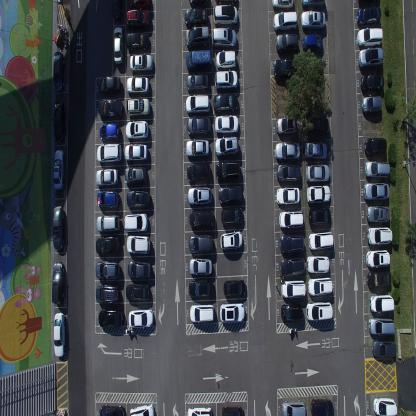car: (52, 204, 66, 252), (357, 46, 384, 70), (185, 48, 212, 72), (301, 8, 326, 31), (279, 232, 305, 254), (219, 302, 245, 324), (272, 57, 298, 79), (211, 26, 237, 48), (366, 225, 393, 246), (54, 311, 66, 358), (362, 180, 390, 200), (214, 134, 238, 157), (186, 25, 210, 48), (213, 4, 238, 26), (188, 209, 214, 230), (307, 275, 333, 296), (357, 26, 383, 47), (125, 234, 151, 255), (306, 301, 333, 321), (273, 10, 297, 32), (52, 260, 64, 304), (53, 148, 65, 192), (53, 100, 65, 144), (216, 159, 240, 181), (214, 68, 238, 90), (356, 5, 381, 26), (213, 92, 238, 113), (185, 94, 210, 115), (128, 308, 153, 329), (278, 208, 304, 228), (279, 256, 305, 276), (372, 395, 398, 415), (364, 160, 390, 180), (96, 142, 122, 162), (95, 235, 121, 255), (218, 184, 242, 205), (187, 186, 211, 207), (306, 183, 330, 204), (360, 72, 384, 93), (186, 161, 210, 182), (98, 99, 122, 120), (125, 119, 149, 140), (188, 279, 213, 299), (189, 303, 214, 323), (275, 141, 300, 161), (366, 249, 391, 269), (123, 212, 148, 232), (95, 261, 120, 281), (95, 284, 120, 304), (280, 280, 306, 299), (308, 231, 334, 250), (368, 316, 394, 335), (52, 51, 64, 92), (301, 32, 323, 54), (276, 32, 298, 54), (185, 7, 208, 28), (186, 72, 209, 93), (276, 162, 300, 182), (276, 186, 300, 206), (188, 234, 212, 254), (306, 254, 330, 274), (306, 162, 330, 182), (372, 338, 396, 358), (363, 136, 387, 156), (187, 116, 211, 136), (126, 30, 150, 50), (96, 188, 120, 208), (96, 213, 120, 233), (128, 260, 152, 280), (369, 294, 394, 313), (276, 115, 298, 136), (99, 121, 121, 142), (220, 230, 243, 250), (309, 206, 332, 226), (98, 74, 121, 94), (95, 167, 118, 187), (189, 257, 213, 276), (310, 396, 334, 415), (215, 114, 239, 133), (126, 9, 150, 28), (129, 53, 153, 72), (126, 97, 150, 116), (124, 143, 148, 162), (124, 165, 148, 184), (125, 283, 149, 302), (305, 117, 330, 135), (281, 398, 306, 416), (98, 309, 123, 327), (221, 206, 243, 226), (305, 140, 327, 160), (223, 278, 246, 297), (186, 139, 209, 158), (280, 303, 304, 321), (368, 270, 392, 288), (366, 204, 390, 222), (126, 76, 150, 94), (126, 190, 150, 208), (112, 26, 122, 66), (216, 50, 236, 69), (361, 95, 382, 113), (129, 402, 156, 415), (99, 403, 126, 415), (111, 0, 124, 22), (186, 405, 212, 415), (221, 404, 244, 415), (129, 0, 150, 10), (300, 0, 325, 8), (271, 0, 293, 9), (189, 0, 209, 8), (214, 0, 237, 5)
